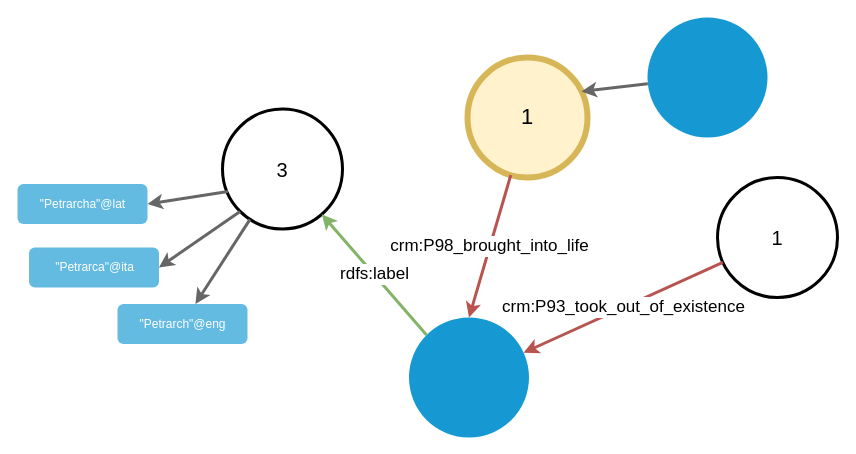
The diagram is 856 pixels wide and 454 high, and some of its shapes have lost their labels. The shapes that lost their labels are listed below. From the top down, each one's centre as x and y in pixels, then its label:
(707,77): petrarch_birth
(468,377): Petrarch (origin)
